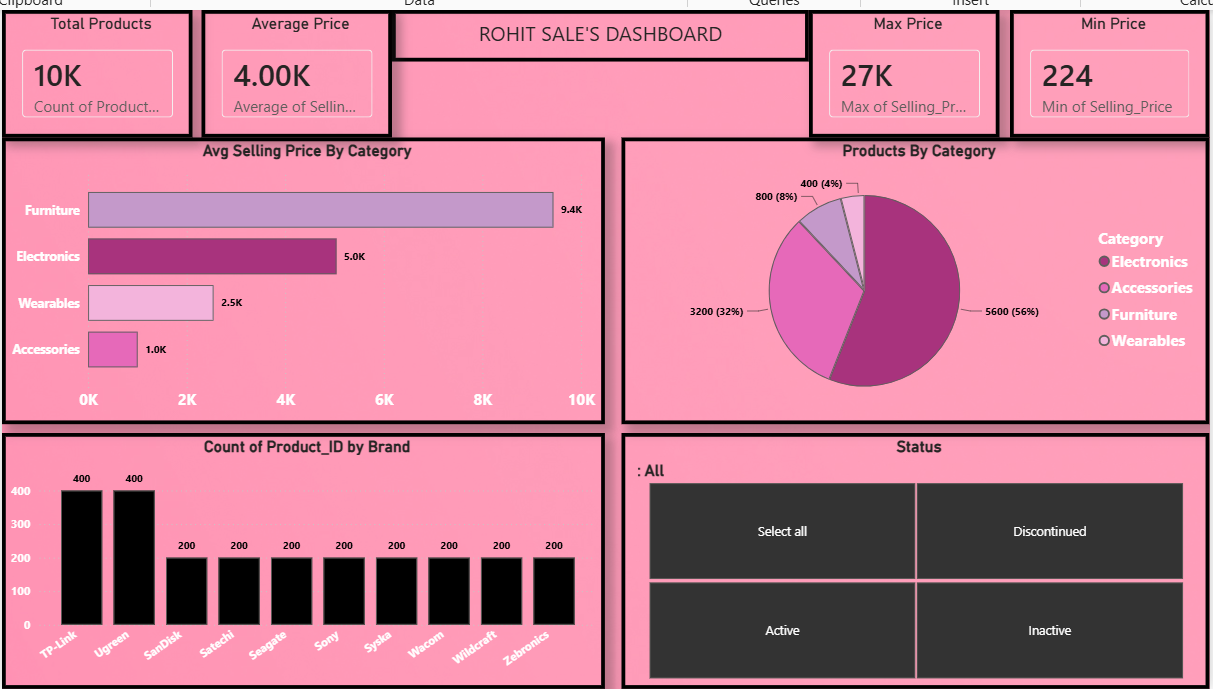

The dashboard page shown, as its layout file describes it:
{"tool":"powerbi","page":{"name":"Page 1","canvas":[1280,720],"ordinal":0},"visuals":[{"type":"textbox","box":[413.9,0,442.2,54.8],"z":0},{"type":"cardVisual","title":"Total Products","fields":{"Data":["CountNonNull(Products.Product_ID)"]},"box":[0,0,202,135.2],"z":1000},{"type":"cardVisual","title":"Average Price","fields":{"Data":["Avg(Products.Selling_Price)"]},"box":[211.6,0,202,135.2],"z":2000},{"type":"cardVisual","title":"Max Price","fields":{"Data":["Max(Products.Selling_Price)"]},"box":[855.7,0,202,135.2],"z":3000},{"type":"cardVisual","title":"Min Price","fields":{"Data":["Min(Products.Selling_Price)"]},"box":[1068.9,0,211.6,135.2],"z":4000},{"type":"barChart","title":"Avg Selling Price By Category","fields":{"Y":["Avg(Products.Selling_Price)"],"Category":["Products.Category"]},"box":[0,135.2,639.4,303.8],"z":5000},{"type":"pieChart","title":"Products By Category","fields":{"Category":["Products.Category"],"Y":["CountNonNull(Products.Product_ID)"]},"box":[656.9,135.2,623.5,303.8],"z":6000},{"type":"clusteredColumnChart","fields":{"Category":["Products.Brand"],"Y":["Count(Products.Product_ID)"]},"box":[0,449,639,271],"z":6001},{"type":"slicer","title":"Status","fields":{"Values":["Products.Status"]},"box":[657,449,623,271],"z":6002}]}

Visuals, with their boxes in screenshot pixels (x1, y1, x2, y2):
textbox: (390, 6, 803, 58)
"Total Products" cardVisual: (3, 6, 192, 133)
"Average Price" cardVisual: (201, 6, 390, 133)
"Max Price" cardVisual: (803, 6, 992, 133)
"Min Price" cardVisual: (1002, 6, 1200, 133)
"Avg Selling Price By Category" barChart: (3, 133, 601, 417)
"Products By Category" pieChart: (617, 133, 1200, 417)
clusteredColumnChart - Products.Brand x Count(Products.Product_ID): (3, 426, 600, 679)
"Status" slicer: (617, 426, 1199, 679)
